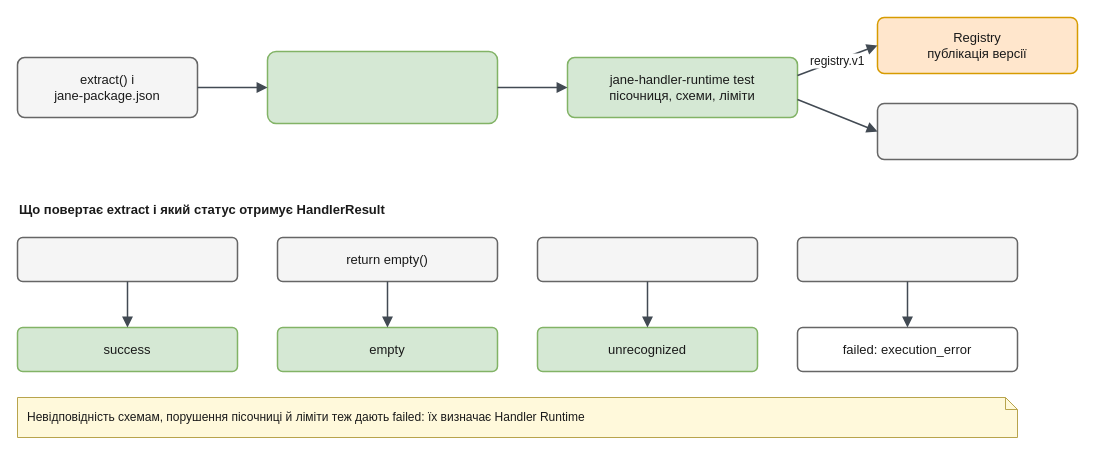
Some shapes in this 1096 by 456 pixel diagram are drawn without their labels. The shapes that lost their labels are listed below. From the top down, each one's centre as x and y in pixels, then its label:
(382,87): pytest: run_local, assert_package_tests_pass у процесі, без ізоляції
(977,131): package_archive у запиті handler.v1
(127,259): return success(...)
(647,259): return unrecognized(...)
(907,259): raise Exception
